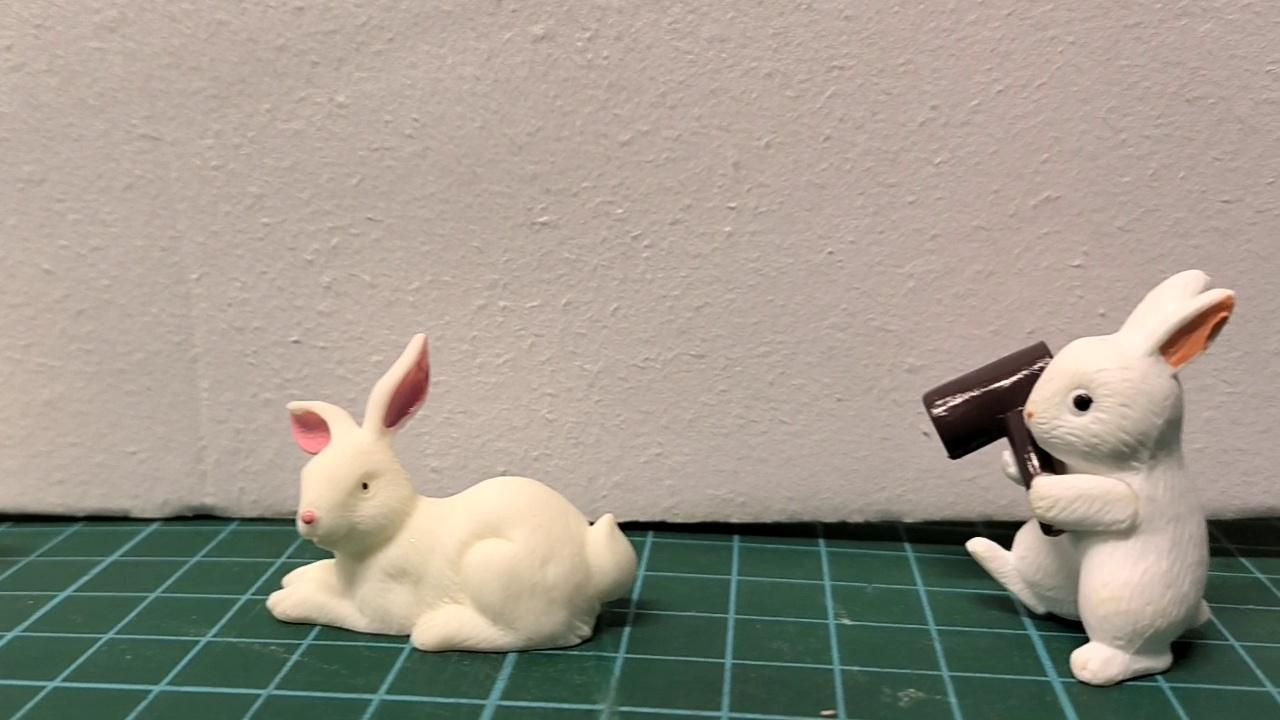pet: (267, 331, 637, 652), (963, 269, 1238, 685)
